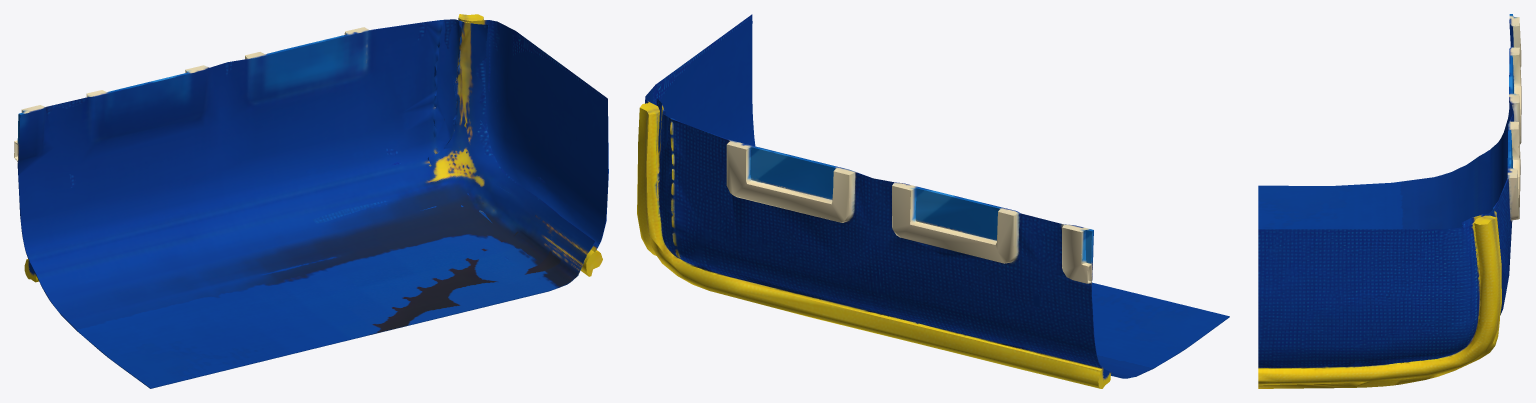
File: 4-ground-floor-back-right.fbx
3 renders of one model, left to right at view 1: azimuth 30°, elevation 25°; view 2: azimuth 150°, elevation 25°; view 3: azimuth 270°, elevation 25°, orthographic. The views are drawn at different scales.
Visible parts, largest first — view 1: ground-floor-back-right; view 2: ground-floor-back-right; view 3: ground-floor-back-right.
Part boxes in pixels (x1,y1,x2,y2): ground-floor-back-right: [14, 14, 608, 388]; ground-floor-back-right: [637, 14, 1229, 388]; ground-floor-back-right: [1258, 14, 1521, 388].
Size of the model in its own units: 7475 by 2786 by 3856.
1 material, 1 textured.
